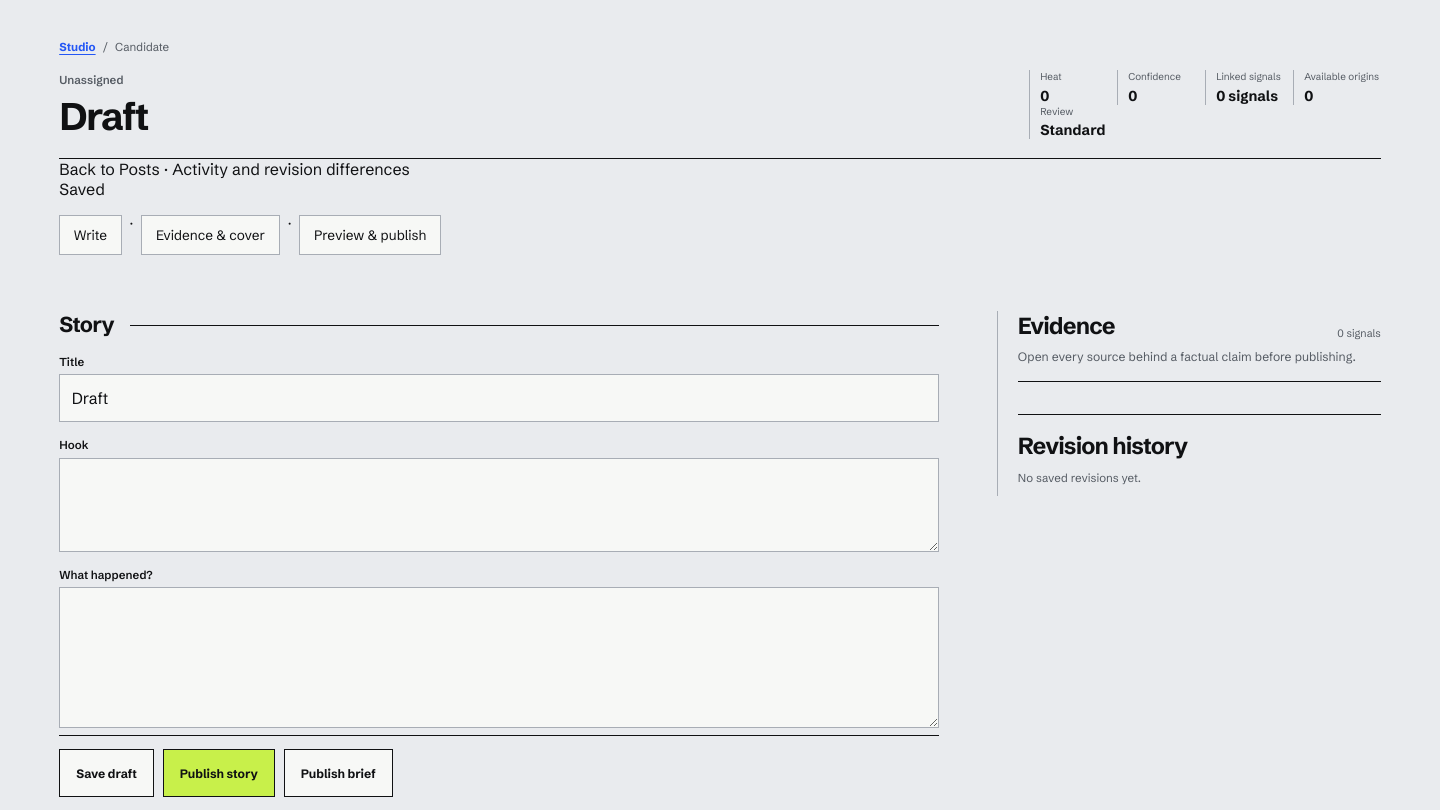
Test: private writing protection › saves incomplete writing after inactivity and preserves values on failure
The width and height of the screenshot is (1440, 810).
In the text box labelled "Hook": (499, 505) [59,458,939,552], type "Unfinished writing"
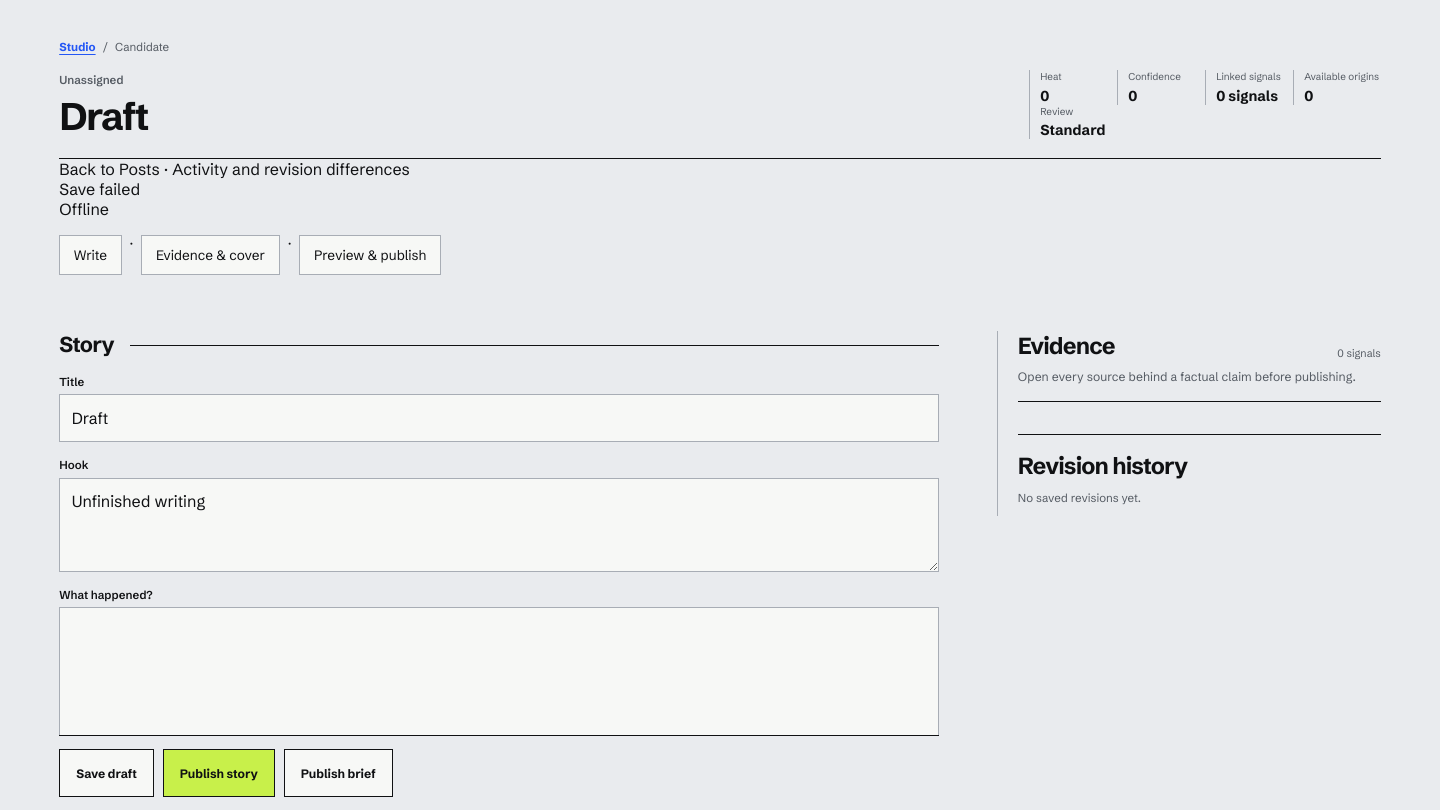
Expected: the message "Save failed" is shown, [59,179,140,199]
